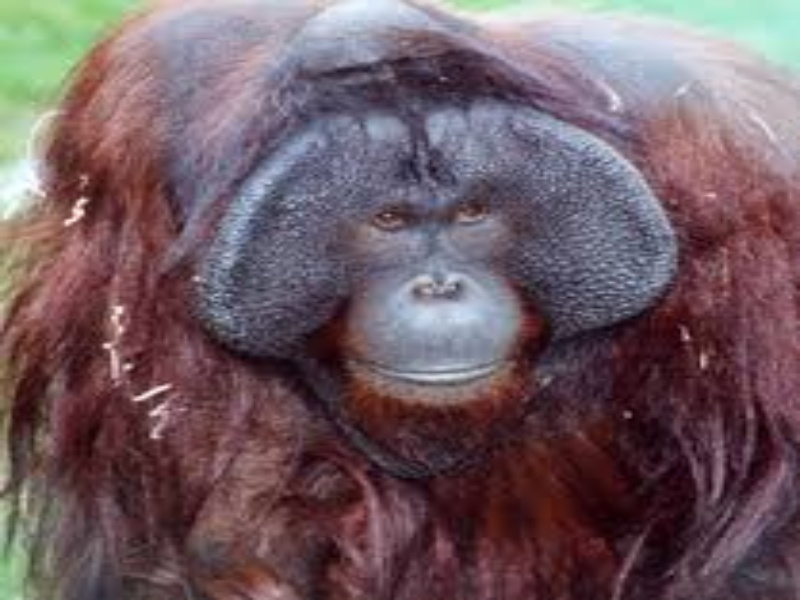monkey: (11, 4, 782, 587)
